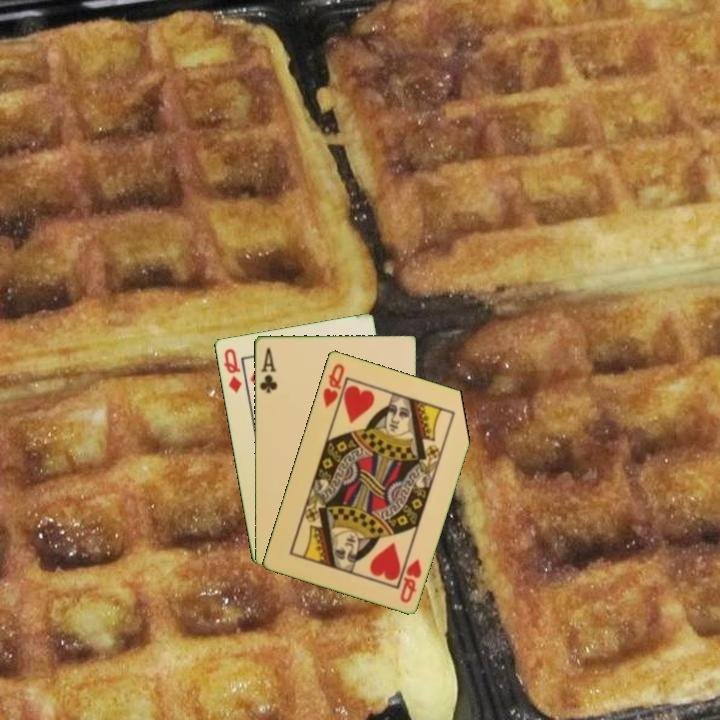Ac: (256, 343, 280, 395)
Qd: (220, 344, 244, 396)
Qh: (319, 360, 349, 415), (396, 555, 424, 605)
